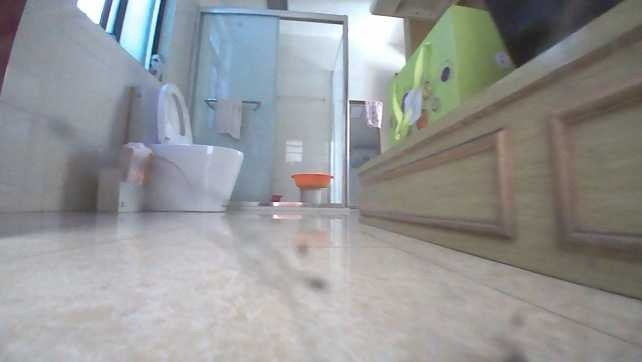toilet: (125, 81, 244, 219)
